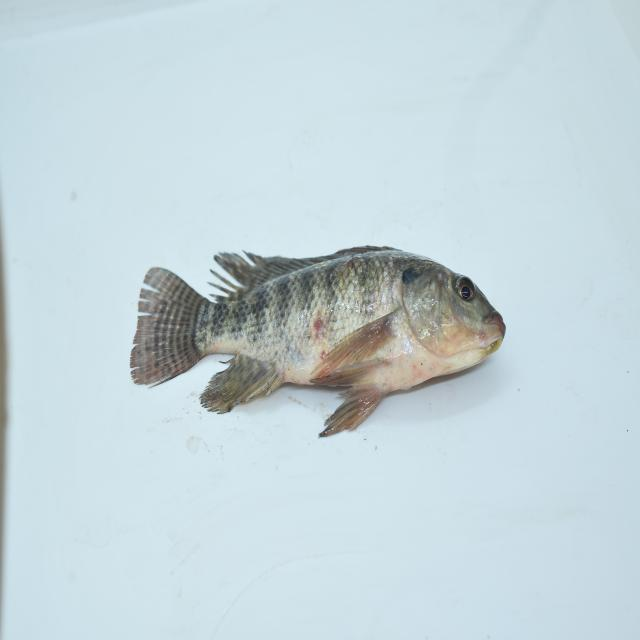Columnaris Disease: (120, 237, 517, 444)
